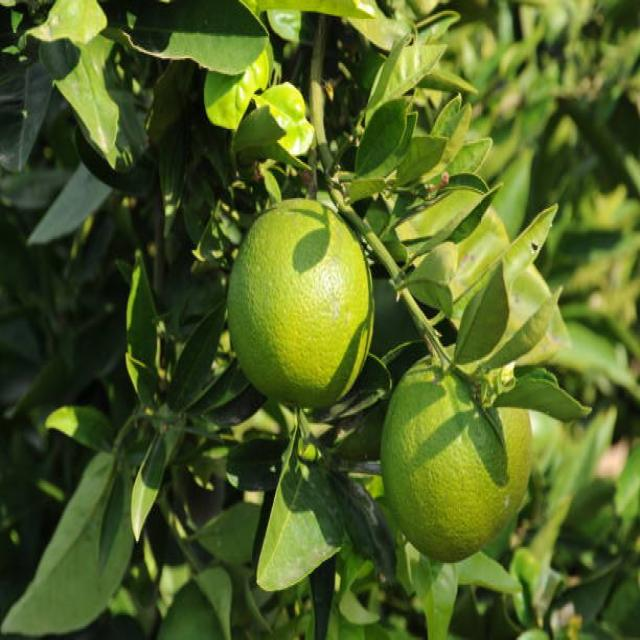Unripe: (381, 344, 534, 566), (225, 197, 372, 412)
